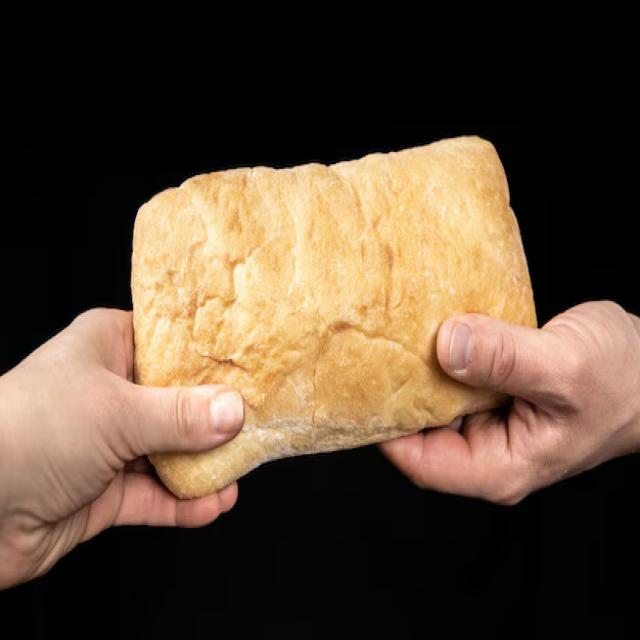Ciabatta: (130, 137, 538, 501)
